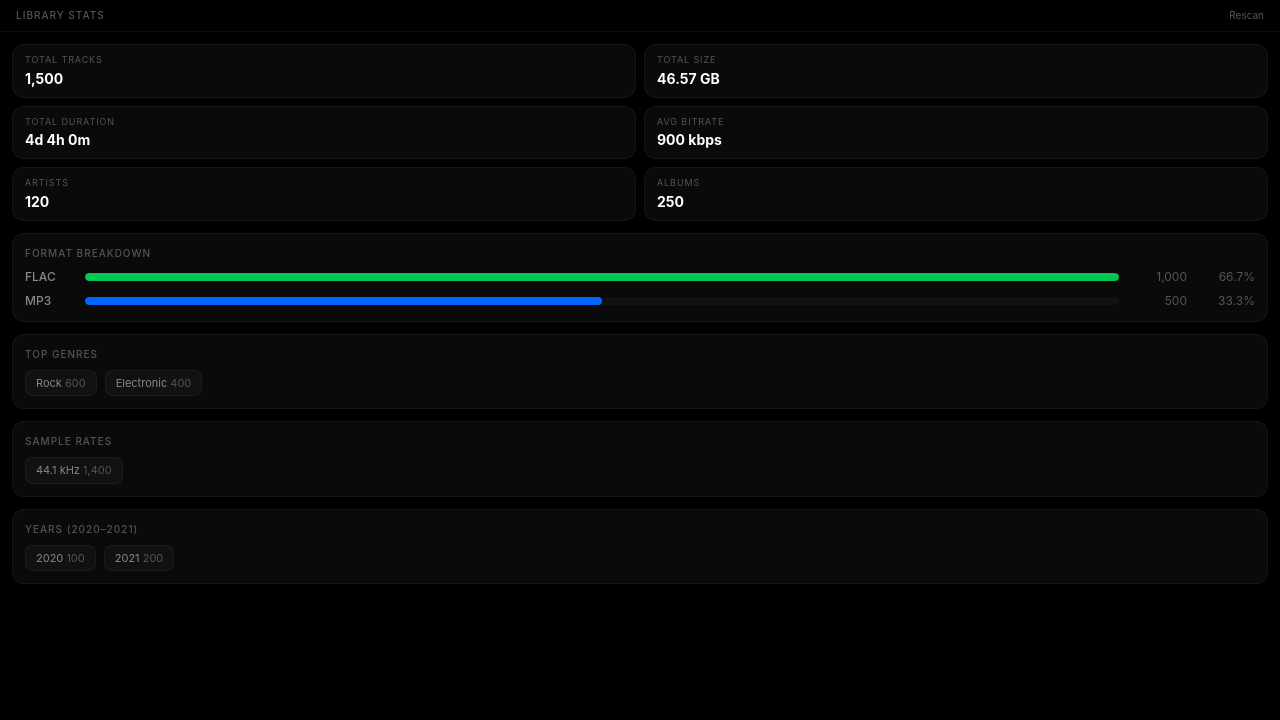
Test: stats drill-down › closes detail modal on backdrop click
This screenshot has width=1280, height=720.
Click the text "FLAC" at (40, 276), box x1=25 y1=268 x2=56 y2=284
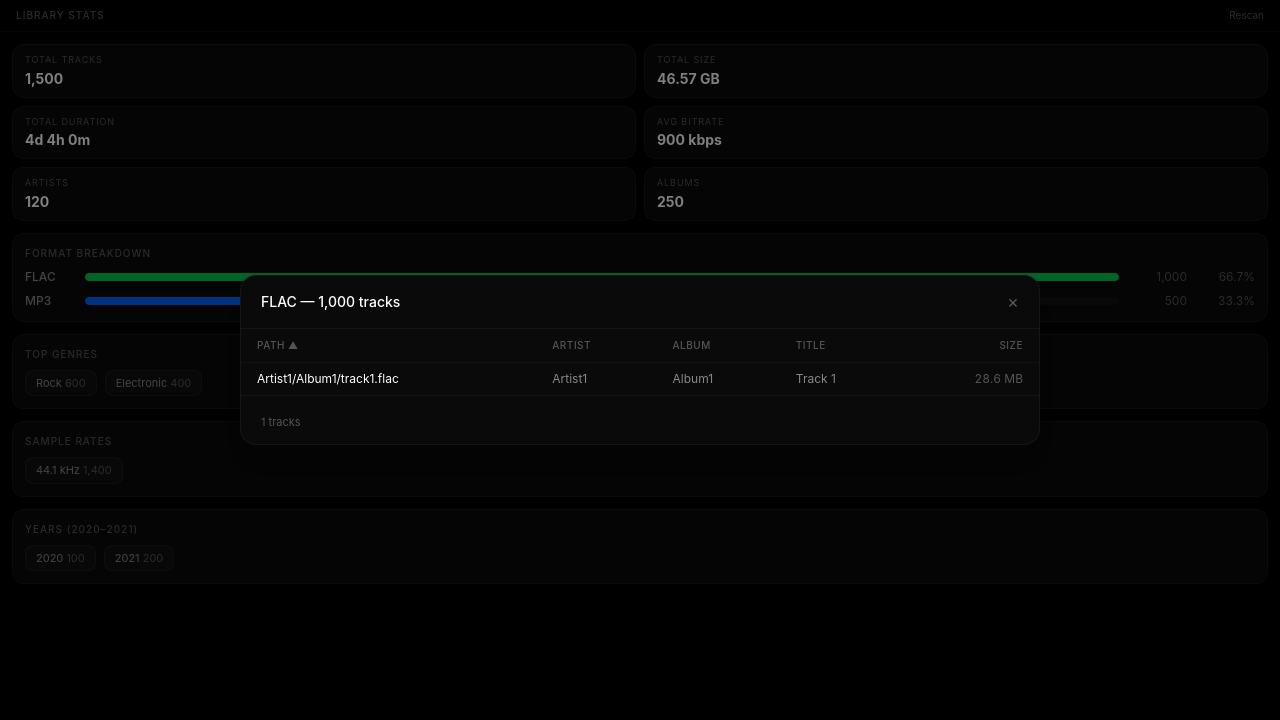
expect the heading "FLAC — 1,000 tracks" is shown: met, box x1=261 y1=292 x2=400 y2=312
Click the element with test id "modal-backdrop" at (77, 360), box x1=0 y1=0 x2=1279 y2=719
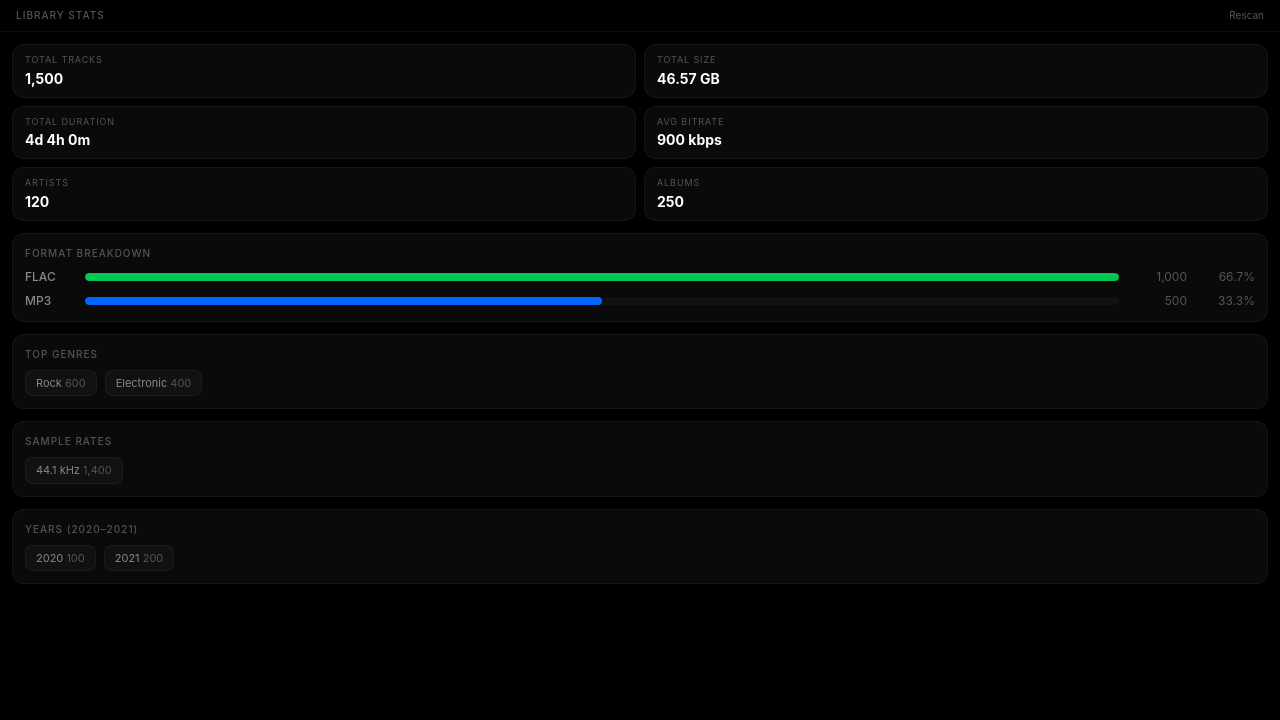
expect the heading "FLAC — 1,000 tracks" is gone: met
